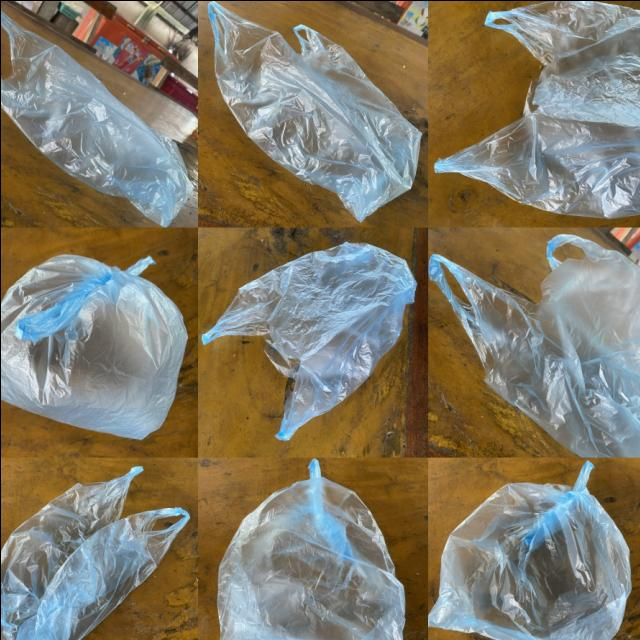plastik: (428, 234, 640, 456), (207, 0, 420, 220), (433, 0, 640, 217), (202, 242, 416, 439), (0, 10, 192, 226), (428, 460, 630, 640), (0, 254, 187, 438), (216, 459, 402, 640), (0, 466, 188, 640)
